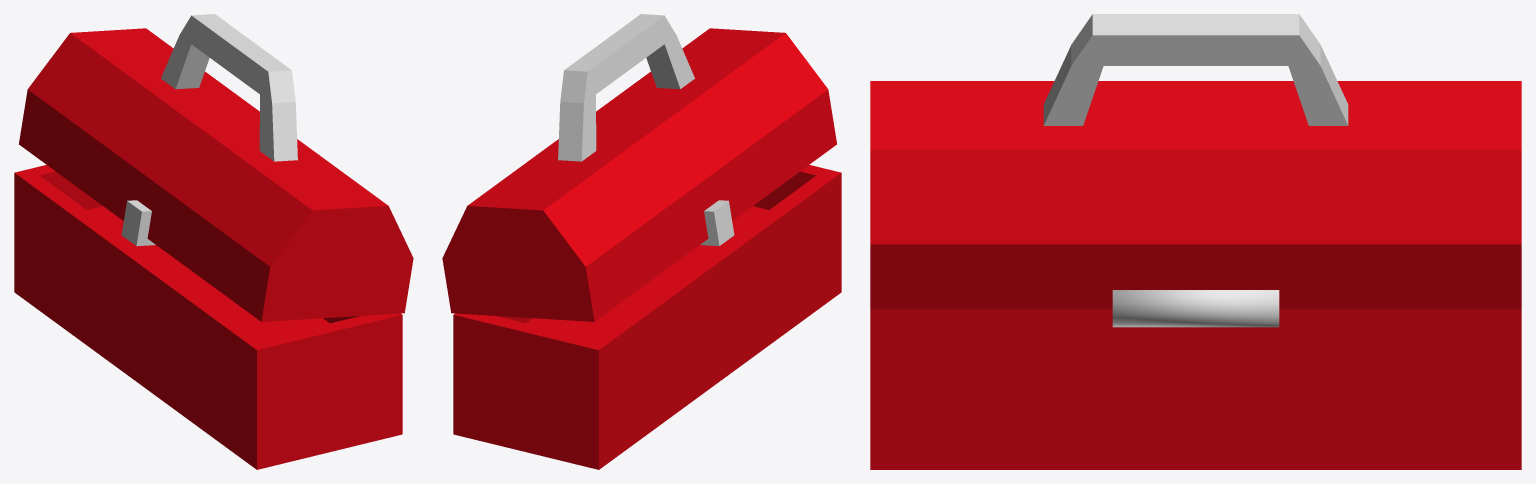
The model's file is Tools.fbx.
3 views of the same model, side by side, from view 1: azimuth 30°, elevation 25°; view 2: azimuth 150°, elevation 25°; view 3: azimuth 270°, elevation 25° (orthographic). The views are drawn at different scales.
Parts seen in each view (by area): view 1: Cube.005; view 2: Cube.005; view 3: Cube.005.
Boxes of the visible parts, x1=… form: Cube.005: x1=14, y1=14, x2=413, y2=469; Cube.005: x1=442, y1=14, x2=841, y2=469; Cube.005: x1=870, y1=14, x2=1521, y2=469.
Bounding box in the file's own units: 229 × 413 × 578.
